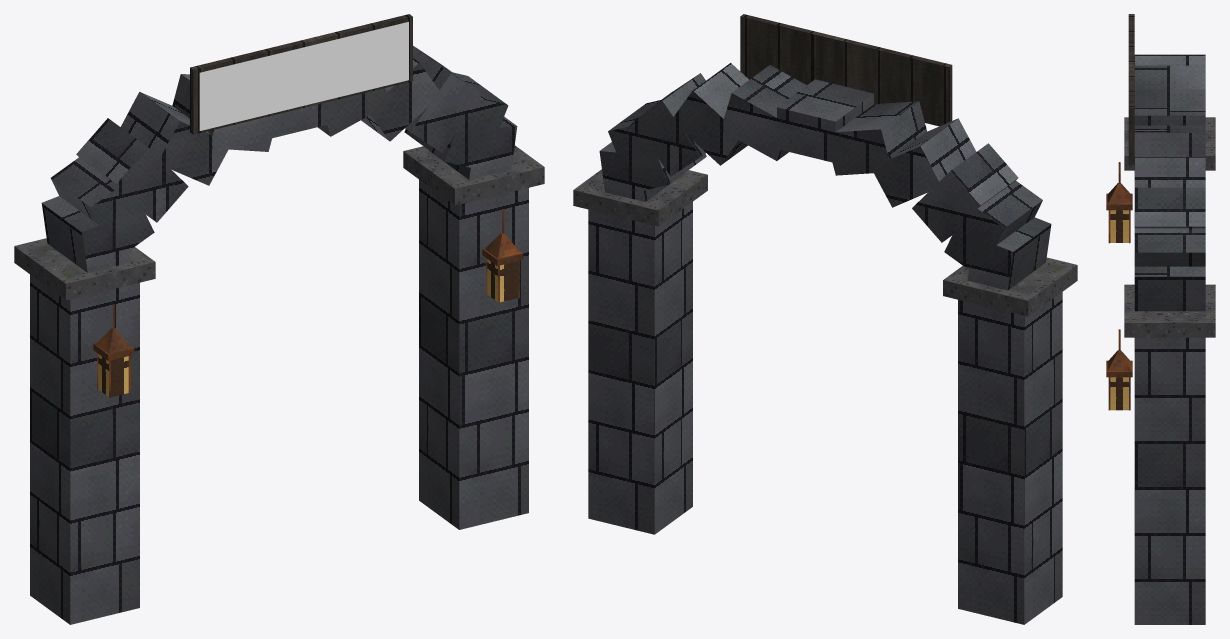
Rendered from arco_escalera.obj.
The picture shows the model from 3 angles, left to right: view 1: azimuth 30°, elevation 25°; view 2: azimuth 150°, elevation 25°; view 3: azimuth 270°, elevation 25°; orthographic projection. The views are drawn at different scales.
Visible parts, largest first — view 1: arco_escalera; view 2: arco_escalera; view 3: arco_escalera.
Part boxes in pixels (left/top/right/bottom): arco_escalera: left=14, top=14, right=544, bottom=624; arco_escalera: left=573, top=14, right=1077, bottom=624; arco_escalera: left=1106, top=14, right=1215, bottom=624.
Size of the model in its own units: 4.8 by 5.06 by 1.08.
6 materials, 5 textured.
